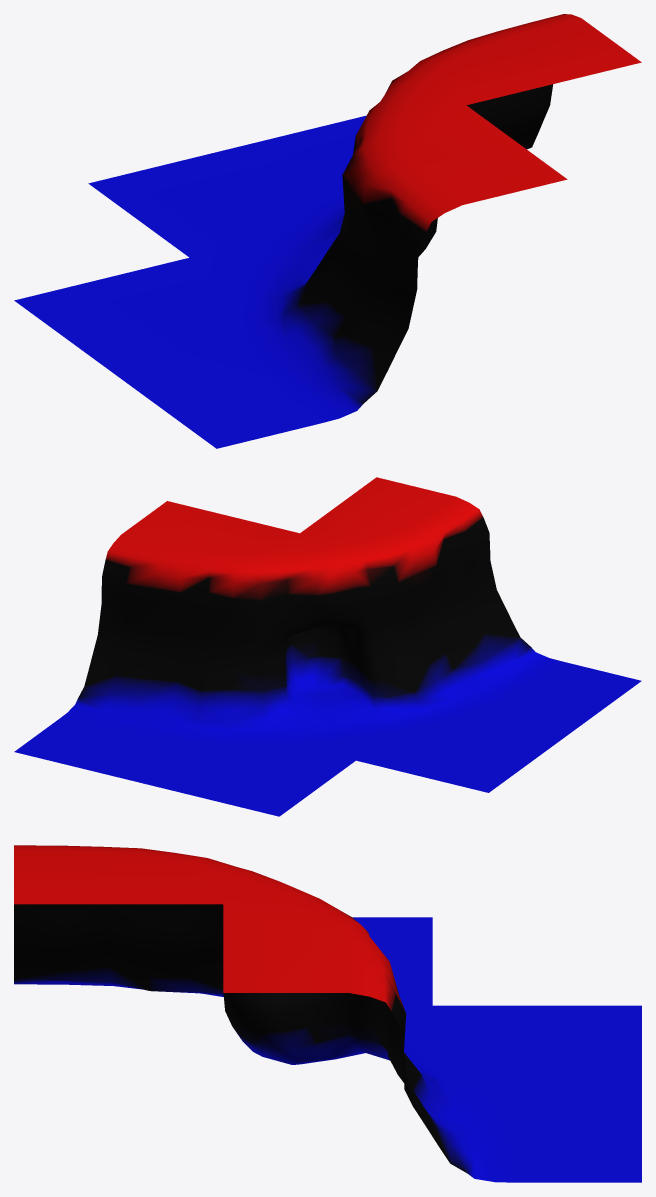
File: RiveCliff04B Background.fbx
3 renders of one model, top to bottom at view 1: azimuth 30°, elevation 25°; view 2: azimuth 150°, elevation 25°; view 3: azimuth 270°, elevation 25°, orthographic. The views are drawn at different scales.
Parts seen in each view (by area): view 1: RiveCliff04B Background; view 2: RiveCliff04B Background; view 3: RiveCliff04B Background.
Boxes of the visible parts, x1,y1,x2,y2 form: RiveCliff04B Background: [14, 14, 641, 448]; RiveCliff04B Background: [14, 477, 641, 816]; RiveCliff04B Background: [14, 845, 641, 1182].
Size of the model in its own units: 3 by 1 by 3.
